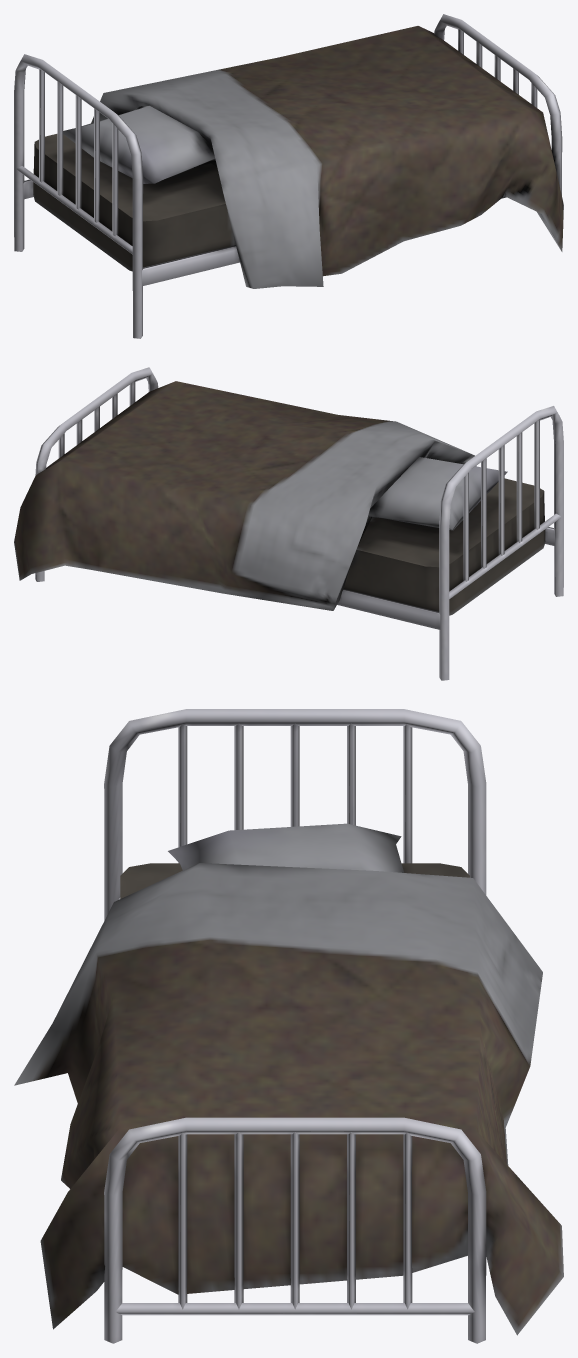
The model's file is Bed.fbx.
3 views of the same model, one above another, from view 1: azimuth 30°, elevation 25°; view 2: azimuth 150°, elevation 25°; view 3: azimuth 270°, elevation 25° (orthographic). The views are drawn at different scales.
Visible parts, largest first — view 1: BedLow; view 2: BedLow; view 3: BedLow.
Part boxes in pixels (bbox=[...]): BedLow: bbox=[14, 14, 563, 338]; BedLow: bbox=[14, 367, 563, 680]; BedLow: bbox=[14, 709, 563, 1343].
Size of the model in its own units: 224 by 99.83 by 156.
